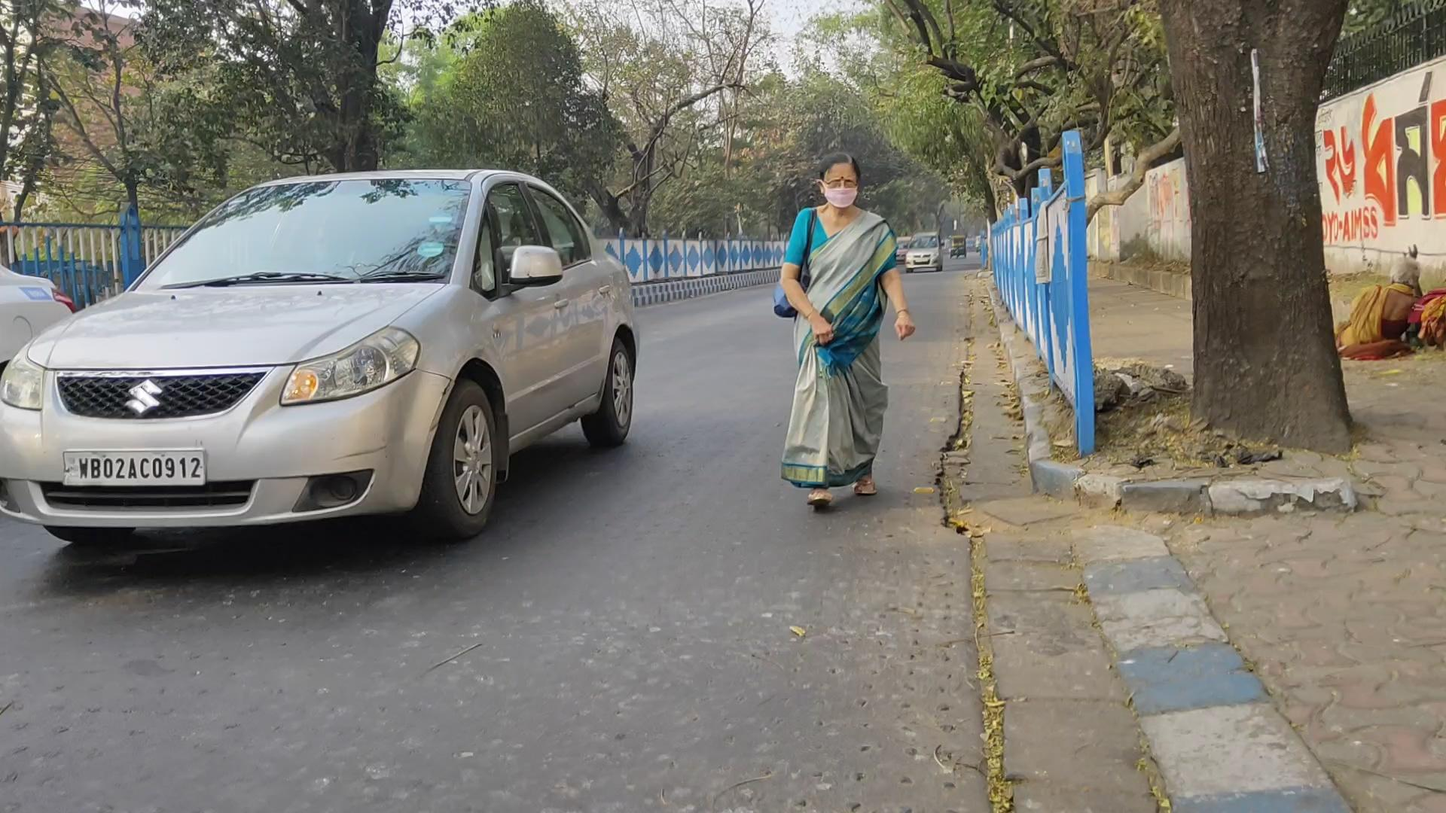Auto: (950, 235, 967, 258)
car: (2, 173, 641, 550), (905, 231, 945, 273)
